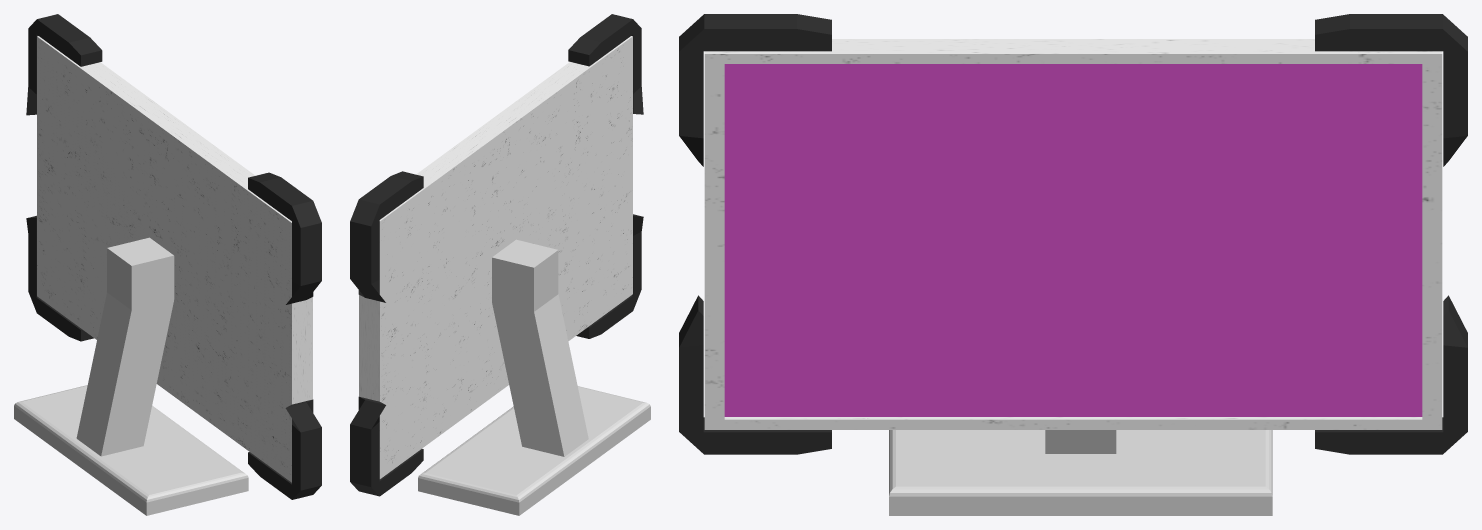
File: the bigscreen.fbx
The picture shows the model from 3 angles, left to right: view 1: azimuth 30°, elevation 25°; view 2: azimuth 150°, elevation 25°; view 3: azimuth 270°, elevation 25°; orthographic projection. The views are drawn at different scales.
Visible parts, largest first — view 1: Cube.089; view 2: Cube.089; view 3: Cube.089.
Part boxes in pixels (x1=…): Cube.089: x1=14, y1=14, x2=321, y2=515; Cube.089: x1=350, y1=14, x2=650, y2=515; Cube.089: x1=679, y1=14, x2=1467, y2=515.
Size of the model in its own units: 2.42 by 7.56 by 11.09.
